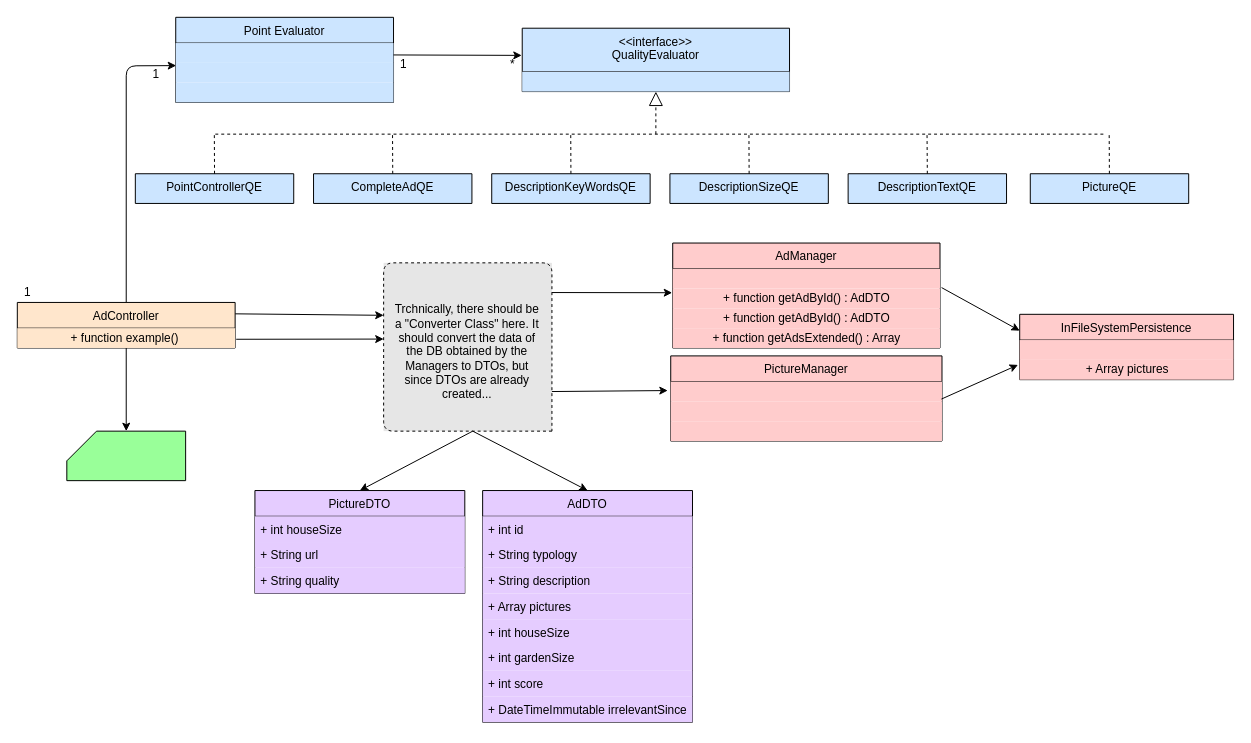
The diagram is 1251 pixels wide and 743 high, and some of its shapes have lost their labels. The centre of each missing label's shape, as x and y in pixels:
+ Array ads: the point at 1126,349
+ Array evaluators: the point at 284,52
+ function evaluate : void: the point at 655,81
+ function evaluate(Array) : Array: the point at 284,92
+ function getAds() : Array: the point at 806,278
+ function getPictureById() : PictureDTO: the point at 805,411
+ function getPictures() : Array: the point at 805,391
+ function getPicturesByAdId() : Array: the point at 805,431
+ function loadEvaluators() : void: the point at 284,72
index.html.twig: the point at 126,455
